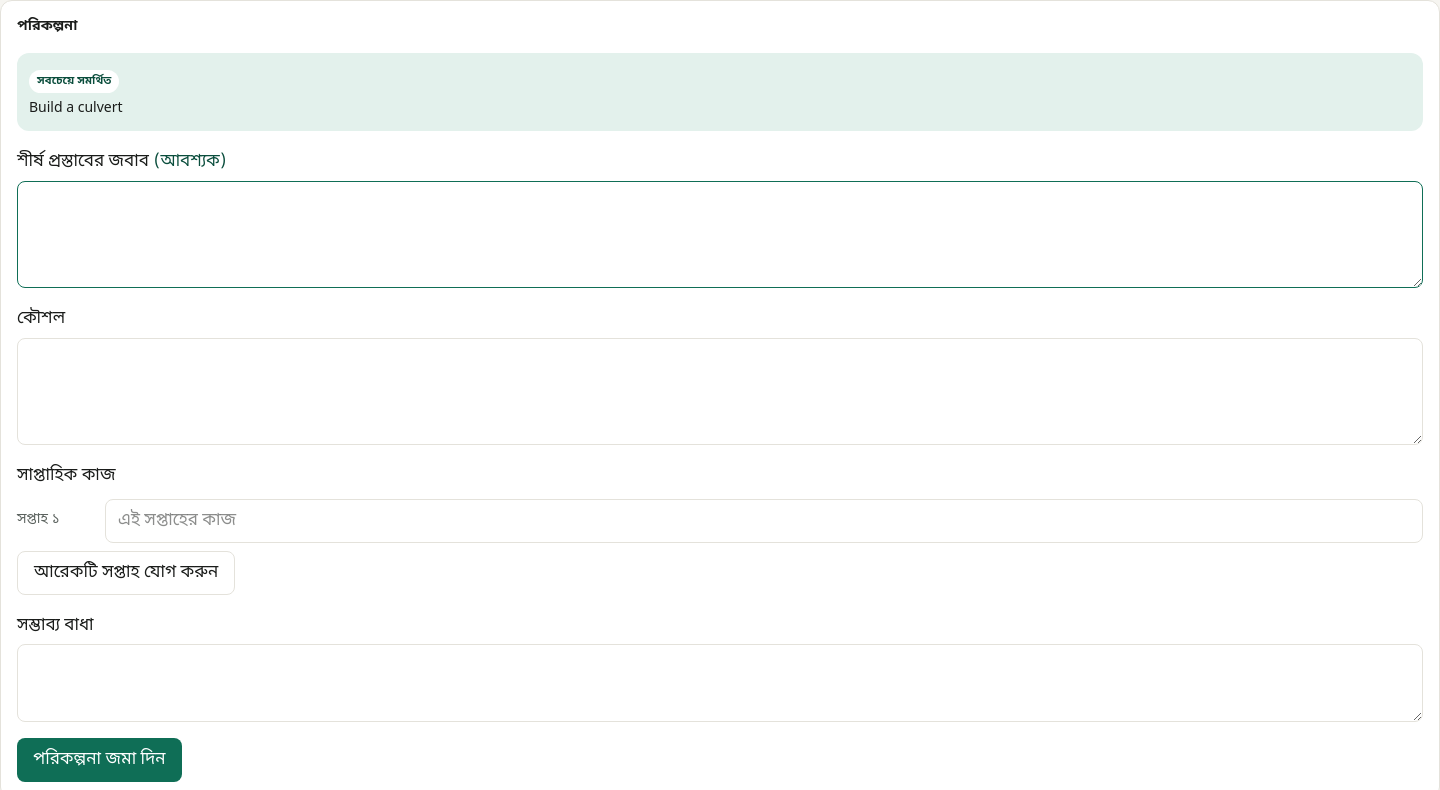
Scenario: PlanForm › adds and removes week rows
Expected: the number of fields with placeholder "এই সপ্তাহের কাজ" is 1, [105,498,1423,542]
Step 1. Click the button "আরেকটি সপ্তাহ যোগ করুন" → (126, 572), box [17,550,235,594]
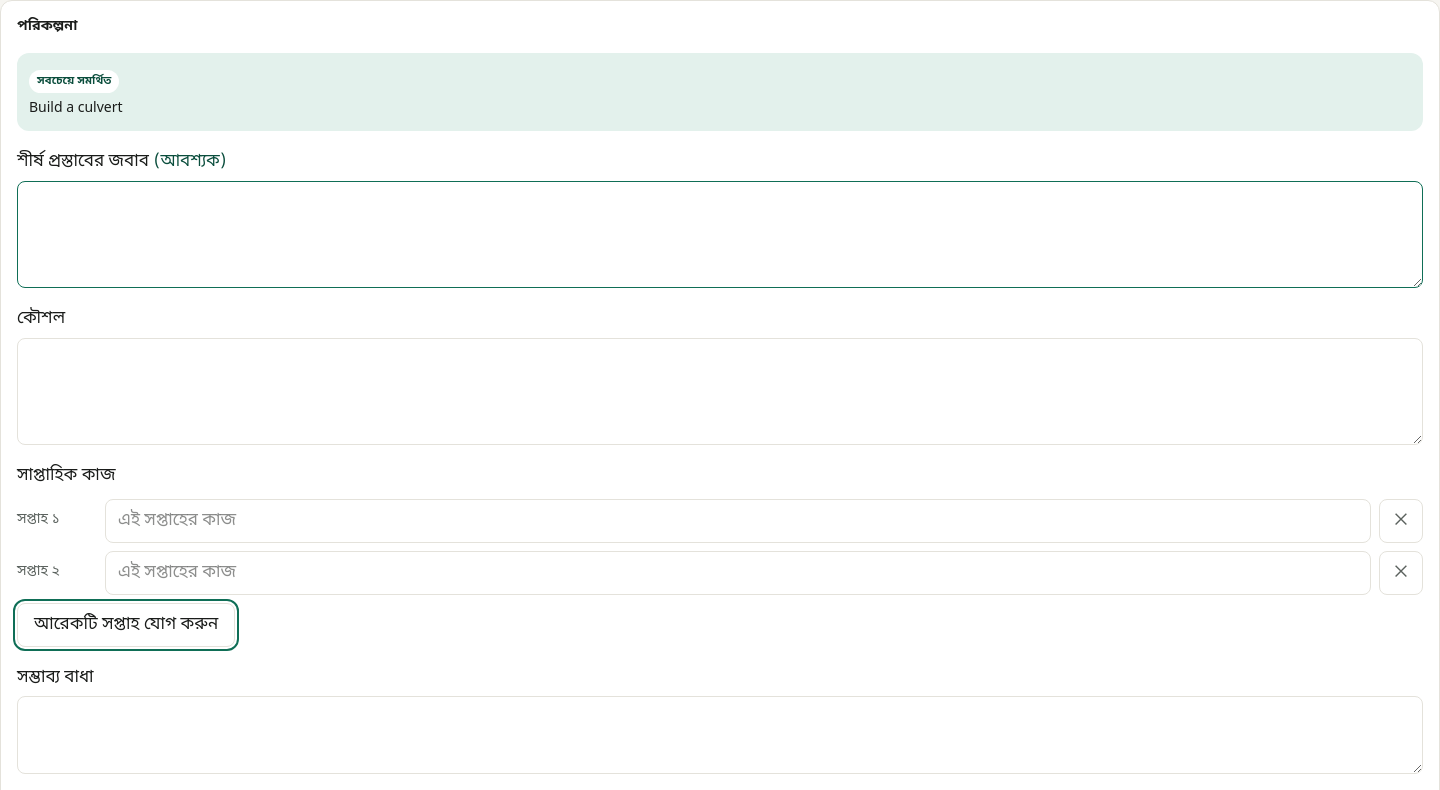
Now the number of fields with placeholder "এই সপ্তাহের কাজ" is 2, box [105,498,1371,542]; [105,550,1371,594]
# the second row can be removed again (both rows show a remove control now)
Step 2. Click the button named "সরান" → (1401, 572), box [1379,550,1423,594]
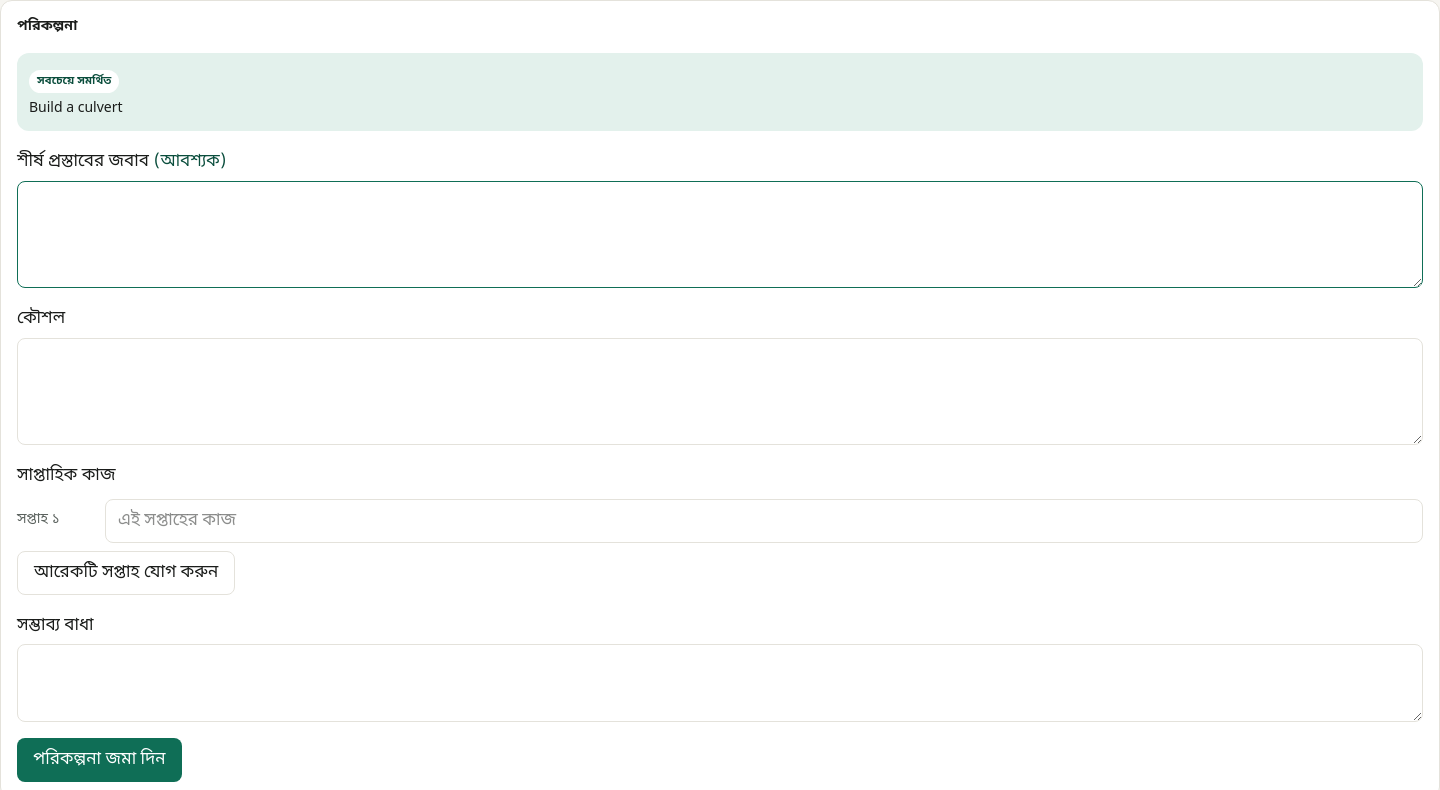
Now the number of fields with placeholder "এই সপ্তাহের কাজ" is 1, box [105,498,1423,542]
